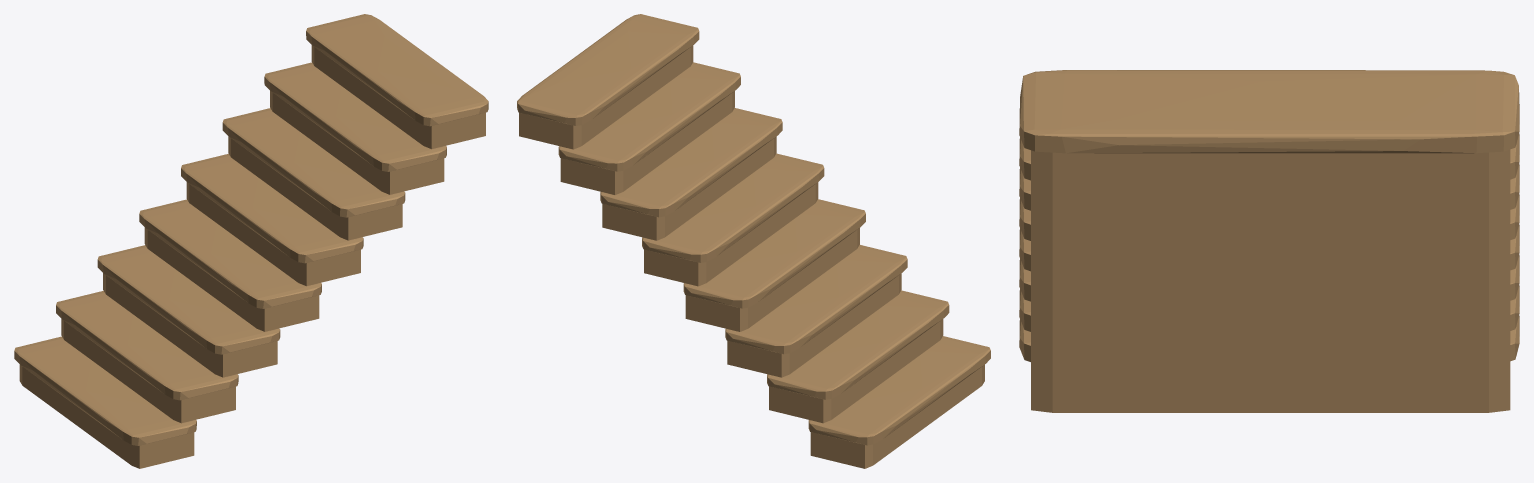
File: Staircase_2.fbx
3 renders of one model, left to right at view 1: azimuth 30°, elevation 25°; view 2: azimuth 150°, elevation 25°; view 3: azimuth 270°, elevation 25°, orthographic. The views are drawn at different scales.
Parts seen in each view (by area): view 1: Combined.001; view 2: Combined.001; view 3: Combined.001.
Boxes of the visible parts, box(x1,y1,x2,y2) form: Combined.001: box(14, 14, 488, 468); Combined.001: box(517, 14, 990, 468); Combined.001: box(1019, 70, 1519, 412).
Size of the model in its own units: 0.8537 by 0.6413 by 0.5124.
